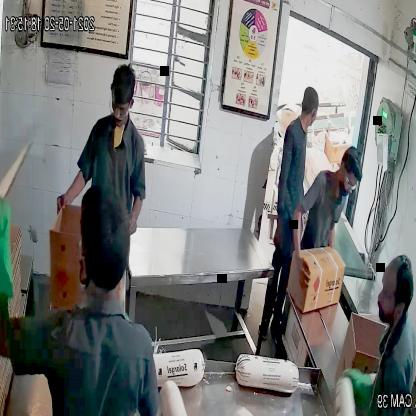goggles: (109, 93, 133, 122)
